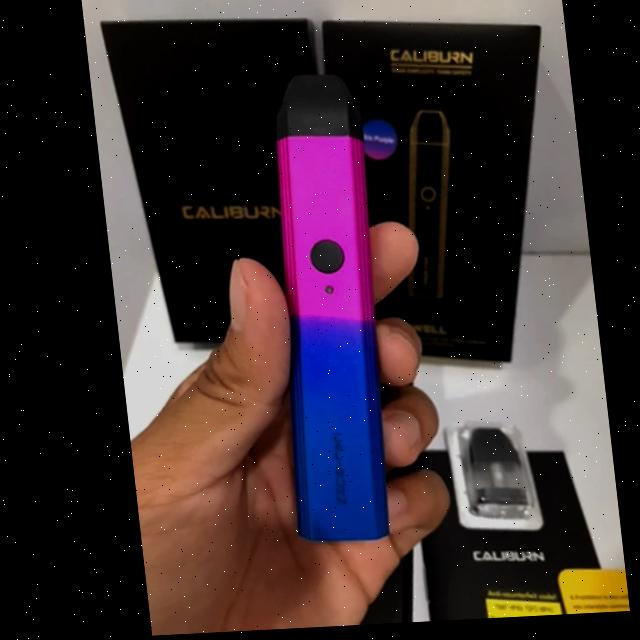vape: (251, 73, 396, 545), (390, 108, 461, 303)
